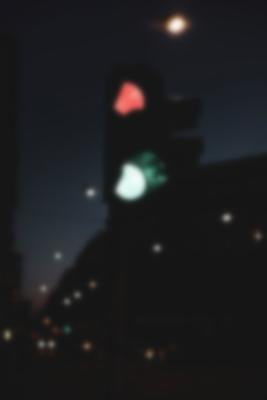International Road Signal Light: (102, 64, 200, 217)
